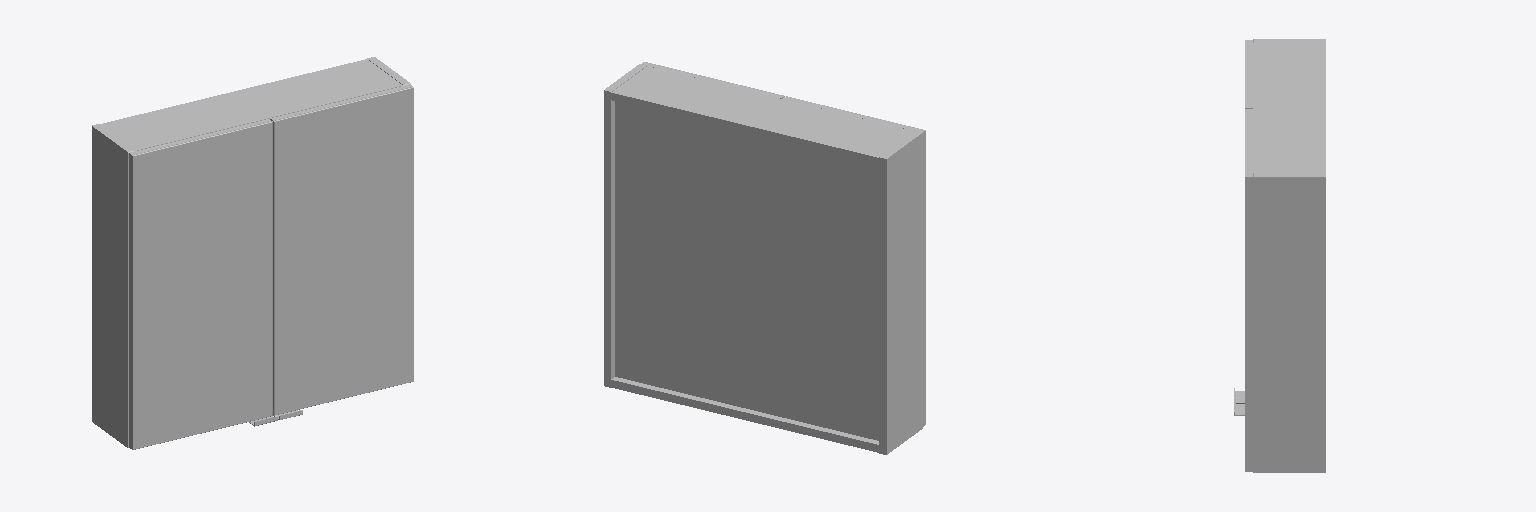
3 renders of one model, left to right at view 1: azimuth 30°, elevation 25°; view 2: azimuth 150°, elevation 25°; view 3: azimuth 270°, elevation 25°, orthographic.
Parts seen in each view (by area): view 1: Object62907, Object62909, Layer_3D_??????003, Object62906, Object62908; view 2: Layer_3D_??????003, Object62906; view 3: Layer_3D_??????003, Object62908.
Boxes of the visible parts, x1,y1,x2,y2 form: Object62907: [132, 121, 272, 449]; Object62909: [274, 87, 413, 415]; Layer_3D_??????003: [92, 57, 410, 447]; Object62906: [129, 119, 271, 448]; Object62908: [270, 84, 412, 414]; Layer_3D_??????003: [604, 64, 922, 454]; Object62906: [783, 97, 925, 426]; Layer_3D_??????003: [1253, 39, 1325, 472]; Object62908: [1246, 109, 1252, 471].
Bounding box in the file's own units: 600 × 600 × 168.